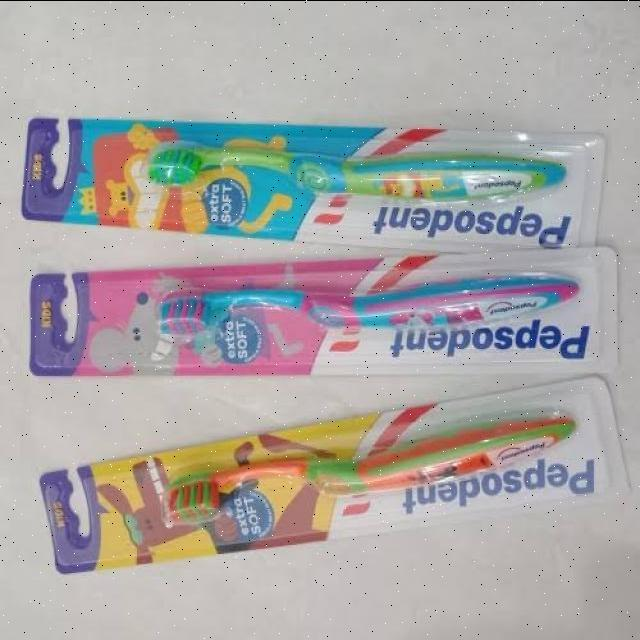toothbrush: (149, 406, 582, 533), (142, 267, 588, 349), (140, 126, 574, 196)
